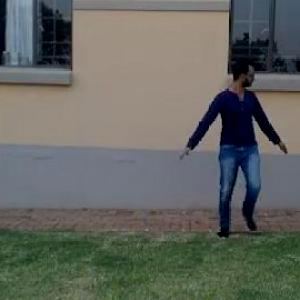land: (183, 57, 289, 236)
